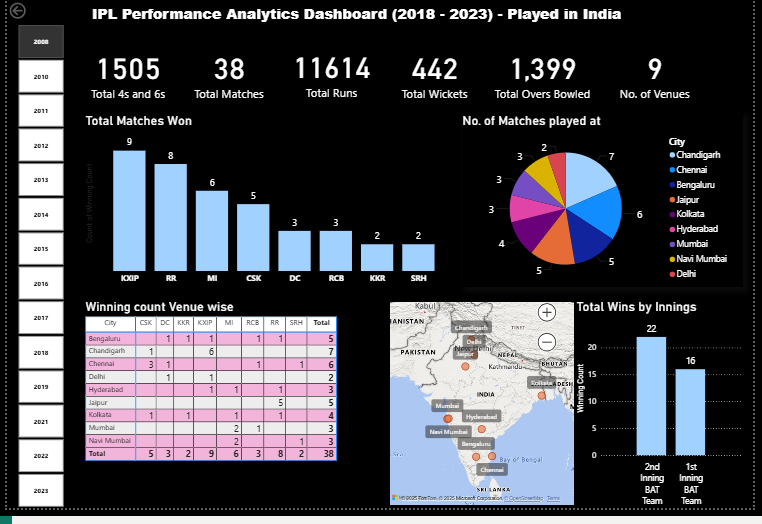

The dashboard page shown, as its layout file describes it:
{"tool":"powerbi","page":{"name":"Page 1","canvas":[1400,953],"ordinal":0},"visuals":[{"type":"textbox","box":[0,0,1332,56.8],"z":0},{"type":"actionButton","box":[0,0,100,40],"z":1000},{"type":"slicer","fields":{"Values":["IPL Analysis.Year"]},"box":[0,39.4,146.3,913.6],"z":2000},{"type":"clusteredColumnChart","title":"Total Matches Won","fields":{"Y":["CountNonNull(IPL Analysis.Winning Count)"],"Category":["IPL Analysis.winner"]},"box":[146.3,212,709.1,326.4],"z":3000},{"type":"card","fields":{"Values":["Sum(IPL Analysis.Total 4s and 6s)"]},"box":[146.3,56.3,182,155.7],"z":4000},{"type":"card","fields":{"Values":["IPL Analysis.Total Matches"]},"box":[328.3,56.3,197,155.7],"z":5000},{"type":"card","fields":{"Values":["IPL Analysis.Total Runs"]},"box":[525.3,56.3,187.6,155.7],"z":6000},{"type":"card","fields":{"Values":["IPL Analysis.Total Wickets"]},"box":[712.9,56.3,198.9,155.7],"z":7000},{"type":"card","fields":{"Values":["IPL Analysis.Total Overs Bowled"]},"box":[911.7,56.3,206.4,155.7],"z":8000},{"type":"pivotTable","title":"Winning count Venue wise","fields":{"Rows":["IPL Analysis.City"],"Columns":["IPL Analysis.winner"],"Values":["Sum(IPL Analysis.Count)"]},"box":[146.3,560.9,585.3,392.1],"z":9000},{"type":"columnChart","title":"Total Wins by Innings","fields":{"Category":["IPL Analysis.Winning Team"],"Y":["CountNonNull(IPL Analysis.winner)"]},"box":[1067.4,560.9,332,392.1],"z":10000},{"type":"pieChart","title":"No. of Matches played at","fields":{"Y":["IPL Analysis.Total Matches"],"Category":["IPL Analysis.City"]},"box":[853.6,212,527.2,326.4],"z":11000},{"type":"map","fields":{"Category":["IPL Analysis.City"]},"box":[712.9,560.9,354.6,392.1],"z":12000},{"type":"card","fields":{"Values":["IPL Analysis.No. of Venues"]},"box":[1118,57,214,155],"z":13000}]}

Visuals, with their boxes on the page's 1400x953 design canvas (x1, y1, x2, y2). These are canvas units, not pixel positions in the 762x524 screenshot, which may show the page scaled, cropped or inside an application window:
textbox: left=0, top=0, right=1332, bottom=57
actionButton: left=0, top=0, right=100, bottom=40
slicer - IPL Analysis.Year: left=0, top=39, right=146, bottom=953
"Total Matches Won" clusteredColumnChart: left=146, top=212, right=855, bottom=538
card - Sum(IPL Analysis.Total 4s and 6s): left=146, top=56, right=328, bottom=212
card - IPL Analysis.Total Matches: left=328, top=56, right=525, bottom=212
card - IPL Analysis.Total Runs: left=525, top=56, right=713, bottom=212
card - IPL Analysis.Total Wickets: left=713, top=56, right=912, bottom=212
card - IPL Analysis.Total Overs Bowled: left=912, top=56, right=1118, bottom=212
"Winning count Venue wise" pivotTable: left=146, top=561, right=732, bottom=953
"Total Wins by Innings" columnChart: left=1067, top=561, right=1399, bottom=953
"No. of Matches played at" pieChart: left=854, top=212, right=1381, bottom=538
map - IPL Analysis.City: left=713, top=561, right=1068, bottom=953
card - IPL Analysis.No. of Venues: left=1118, top=57, right=1332, bottom=212
